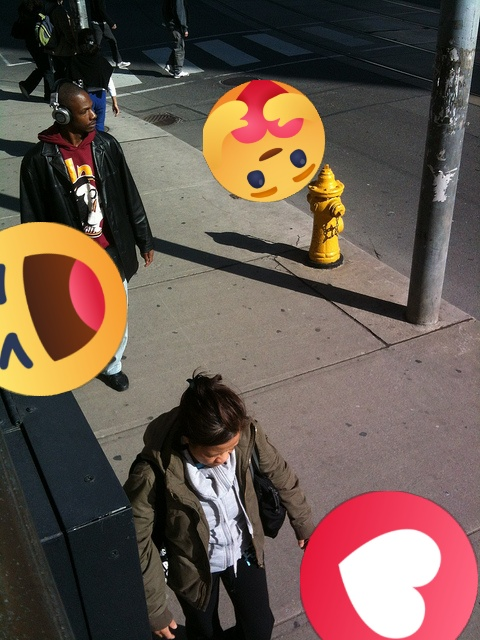care: (203, 80, 325, 202)
haha: (0, 222, 127, 396)
love: (300, 491, 478, 640)
